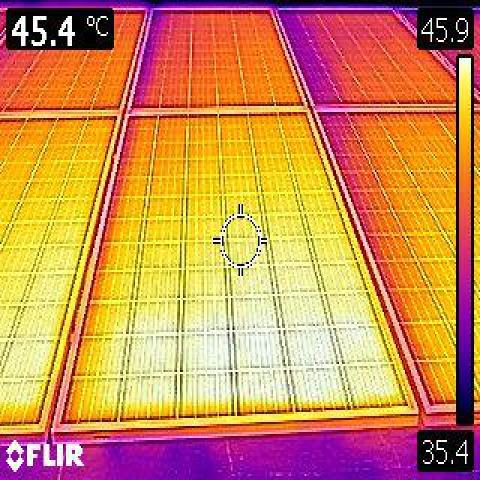fault: (140, 332, 383, 400)
